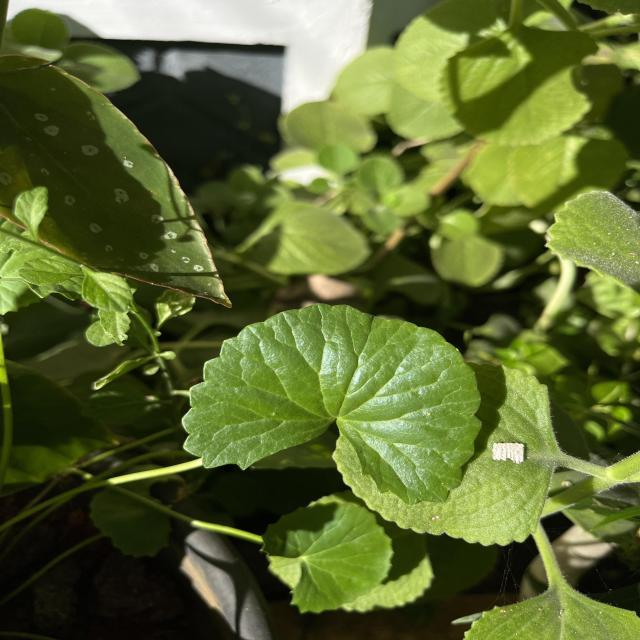Centella asiatica: (178, 298, 488, 508)
